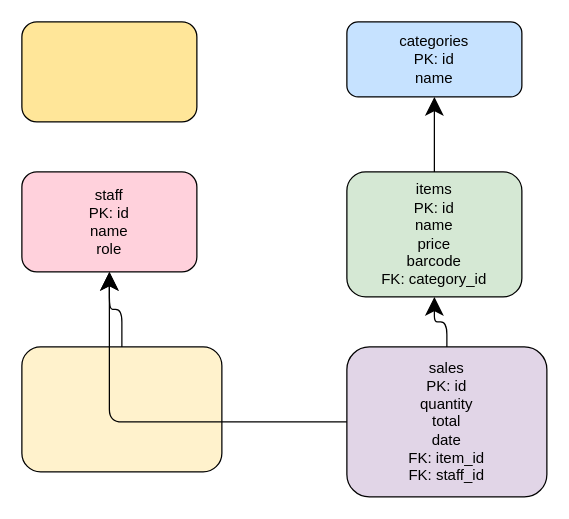
Image size: 569x519. Some labels were removed from this diagram. Here are the shapes that lost their labels. From the top down, the centre of each, then its label:
At point (109, 71): "users PK: id username password".
At point (121, 409): "safe_transactions PK: id amount type date FK: staff_id".
